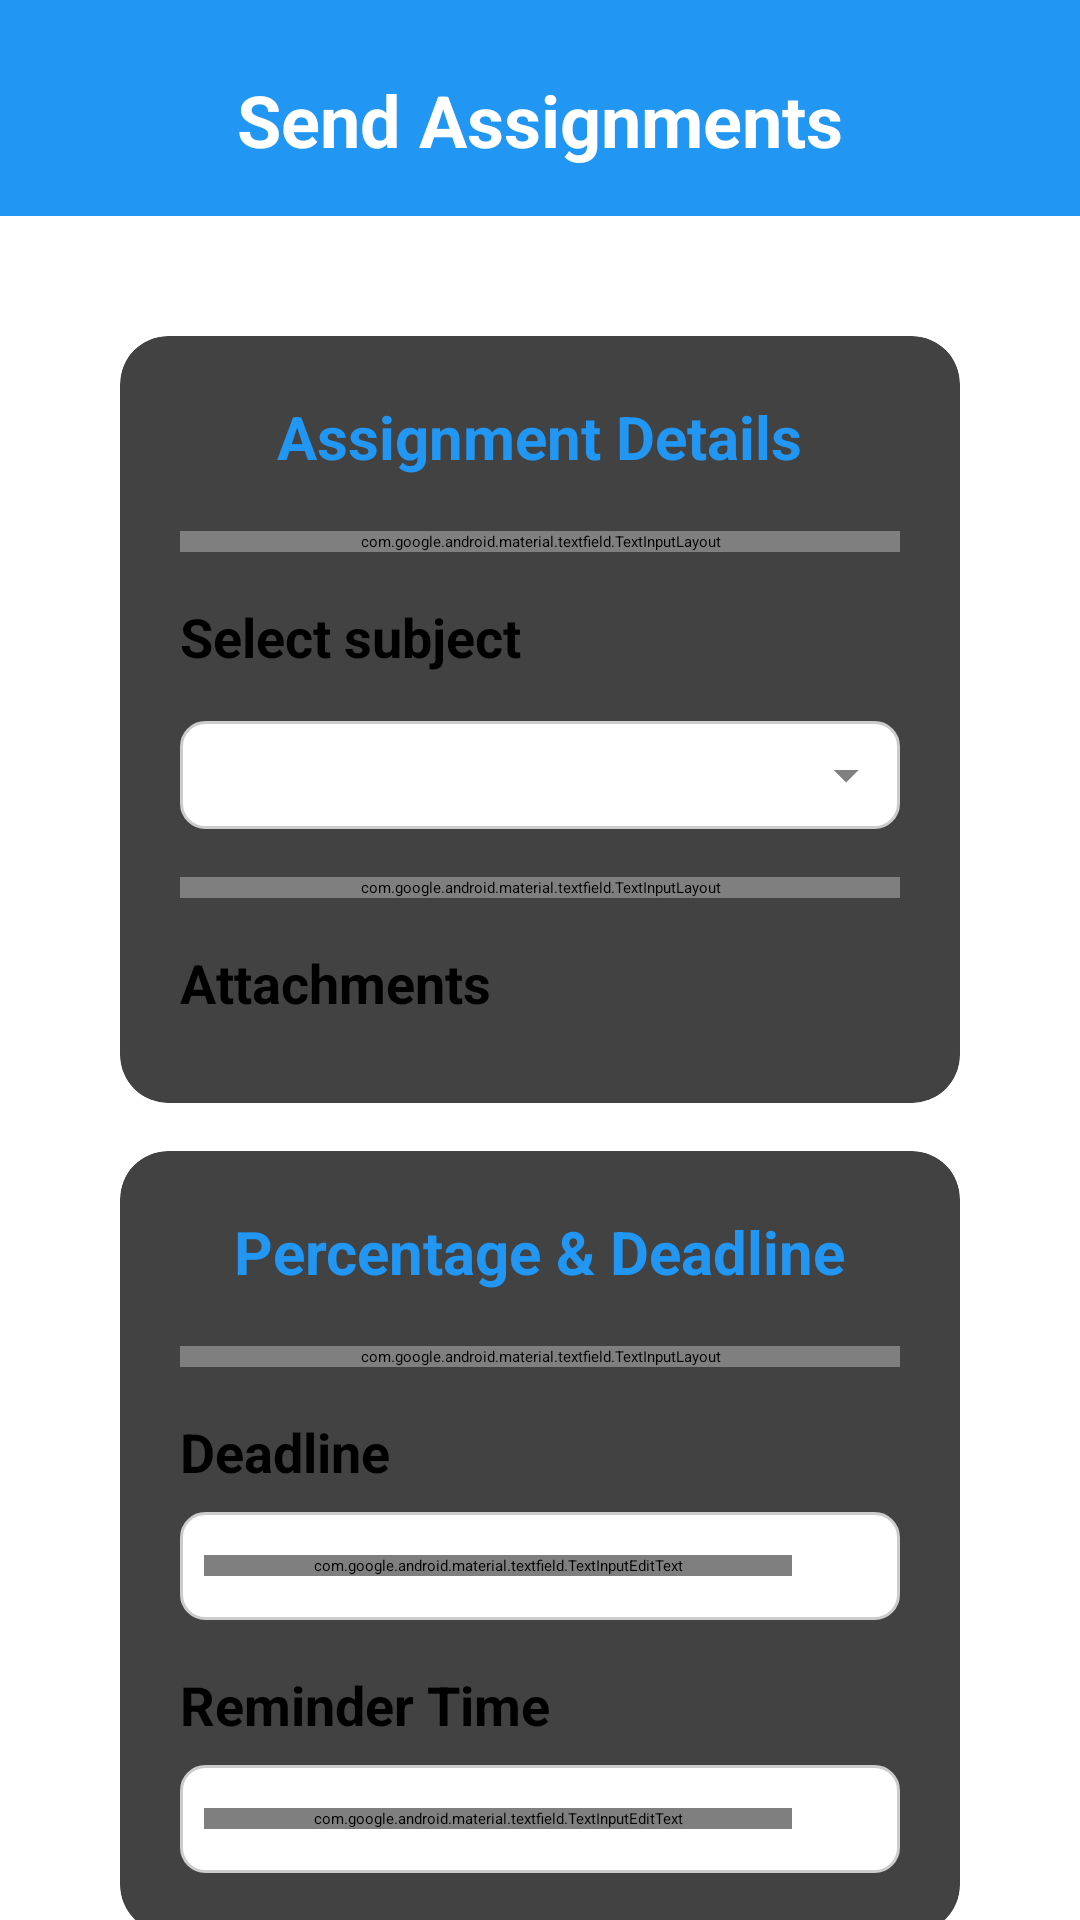

Where to tap for icons on this 1080*1920 app screen, as (x,y):
spinner arrow: (846,776)
